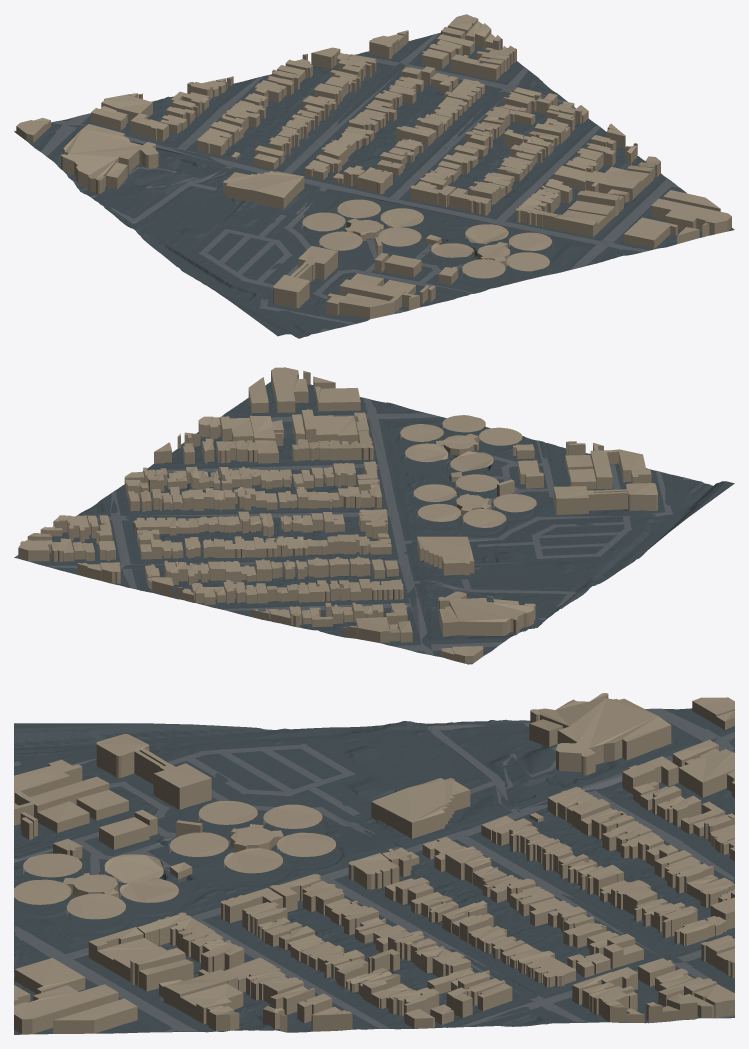
Rendered from epsg26910-1441-10877.lod0.glb.
The picture shows the model from 3 angles, top to bottom: view 1: azimuth 30°, elevation 25°; view 2: azimuth 150°, elevation 25°; view 3: azimuth 270°, elevation 25°; orthographic projection. The views are drawn at different scales.
Visible parts, largest first — view 1: epsg26910-1441-10877-lod0; view 2: epsg26910-1441-10877-lod0; view 3: epsg26910-1441-10877-lod0.
Part boxes in pixels (x1,y1,x2,y2): epsg26910-1441-10877-lod0: [14, 14, 734, 338]; epsg26910-1441-10877-lod0: [14, 367, 734, 664]; epsg26910-1441-10877-lod0: [14, 693, 734, 1034].
Bounding box in the file's own units: 384 × 26.15 × 384.
